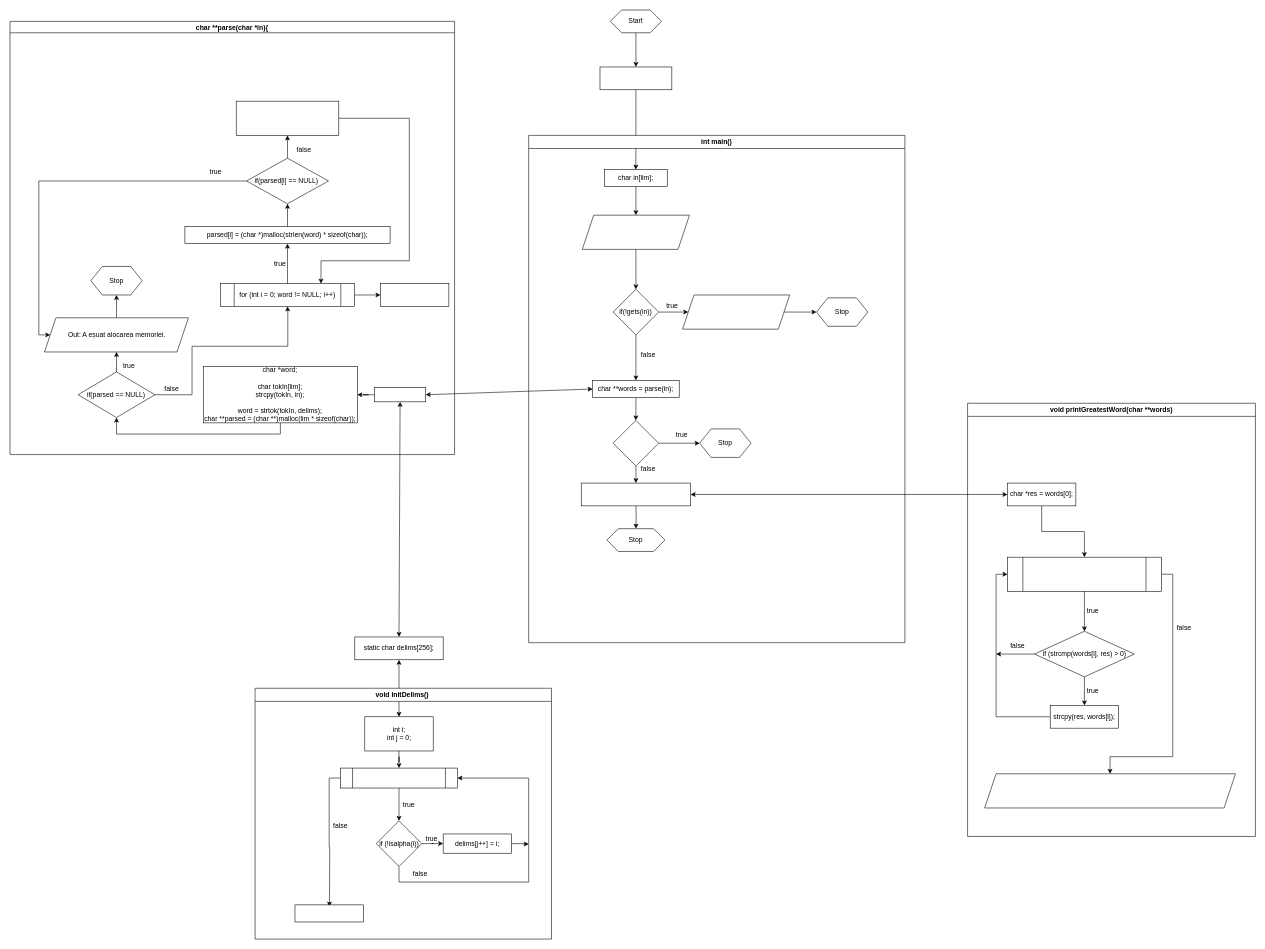
The diagram is 1265 pixels wide and 949 high, and some of its shapes have lost their labels. The centre of each missing label's shape, as x and y in pixels:
"const int lim = 1000;" goes at pixel 635 78.
"delims[j] = 0;" goes at pixel 328 913.
"for (i = 1; i < 256; i++)" goes at pixel 398 778.
"for (int i = 0; words[i]; i++)" goes at pixel 1084 574.
"if(!words)" goes at pixel 636 443.
"initDelims();" goes at pixel 400 394.
"Out: Cel mai “mare” cuvânt în sens lexicografic din propoziție: res" goes at pixel 1109 790.
"Out: Introduceți o propoziție:" goes at pixel 635 232.
"Out: Valoare invalidă." goes at pixel 736 311.
"printGreatestWord(words);" goes at pixel 636 494.
"return (parsed);" goes at pixel 414 294.
"strcpy(parsed[i], word); word = strtok(NULL, delims);" goes at pixel 287 118.
